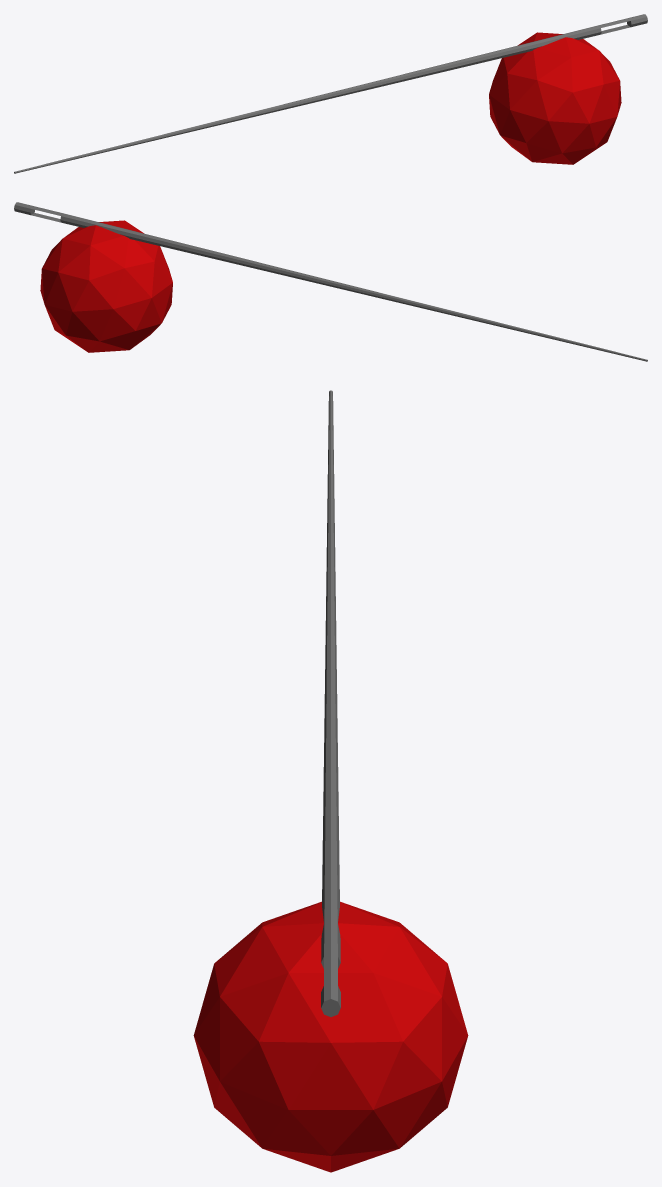
Rendered from YarnBullet.fbx.
The picture shows the model from 3 angles, top to bottom: view 1: azimuth 30°, elevation 25°; view 2: azimuth 150°, elevation 25°; view 3: azimuth 270°, elevation 25°; orthographic projection. The views are drawn at different scales.
Visible parts, largest first — view 1: YarnBullet; view 2: YarnBullet; view 3: YarnBullet.
Part boxes in pixels (x1,y1,x2,y2): YarnBullet: [14, 14, 647, 173]; YarnBullet: [14, 202, 647, 361]; YarnBullet: [193, 390, 468, 1172].
Size of the model in its own units: 1.64 by 0.3074 by 0.3092.
